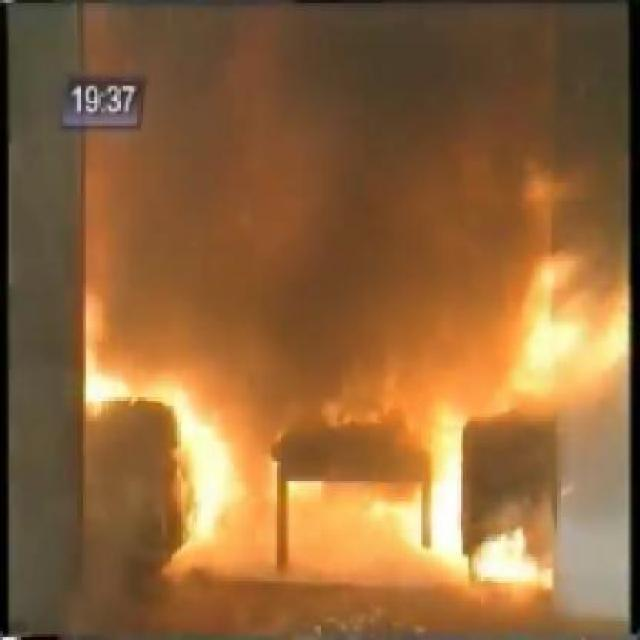smoke: (392, 400, 616, 586), (502, 245, 635, 404), (168, 378, 242, 562), (80, 362, 135, 421)
